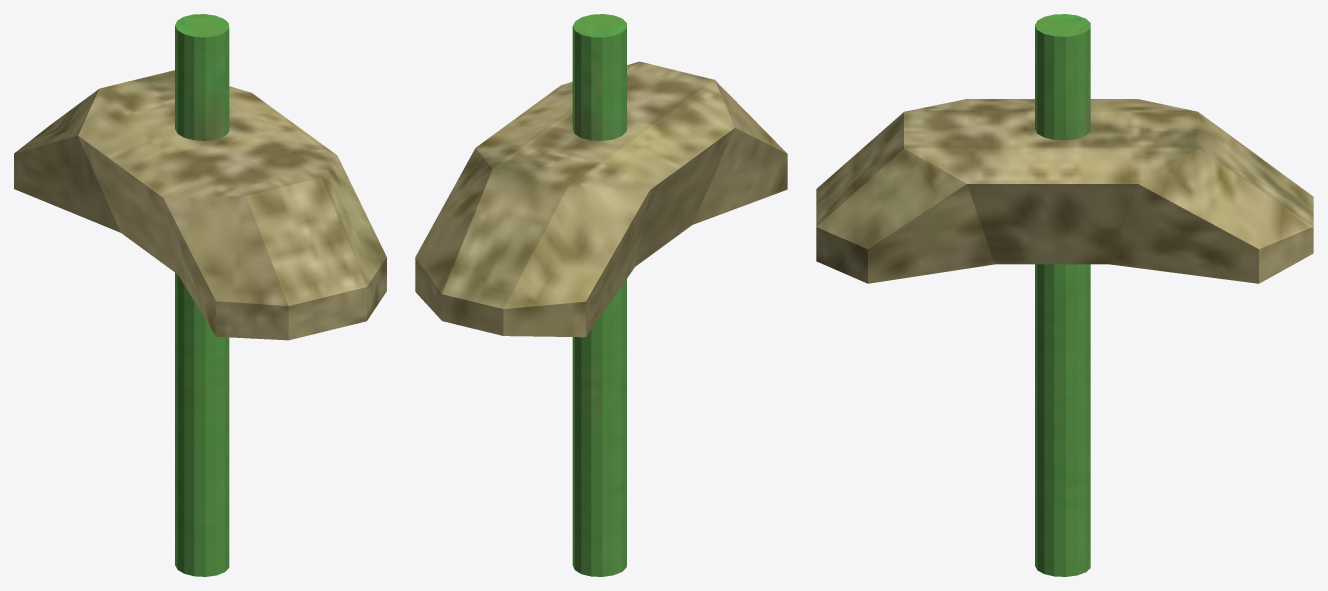
File: rice paddy.fbx
The picture shows the model from 3 angles, left to right: view 1: azimuth 30°, elevation 25°; view 2: azimuth 150°, elevation 25°; view 3: azimuth 270°, elevation 25°; orthographic projection.
Visible parts, largest first — view 1: rice paddy; view 2: rice paddy; view 3: rice paddy.
Part boxes in pixels (x1=…): rice paddy: x1=14, y1=14, x2=386, y2=576; rice paddy: x1=415, y1=14, x2=787, y2=576; rice paddy: x1=816, y1=14, x2=1313, y2=576.
Size of the model in its own units: 63.85 by 189 by 158.
